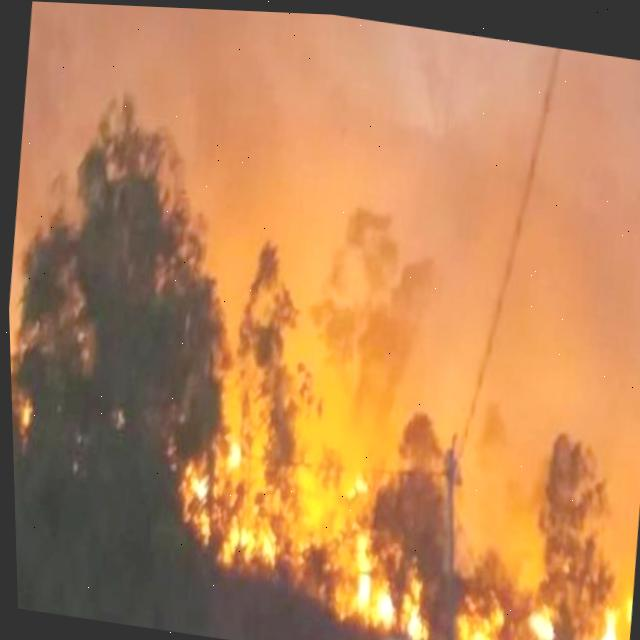fire: (344, 549, 429, 640), (583, 618, 620, 640)
smoke: (217, 9, 640, 454), (81, 3, 248, 146), (13, 1, 90, 245)
